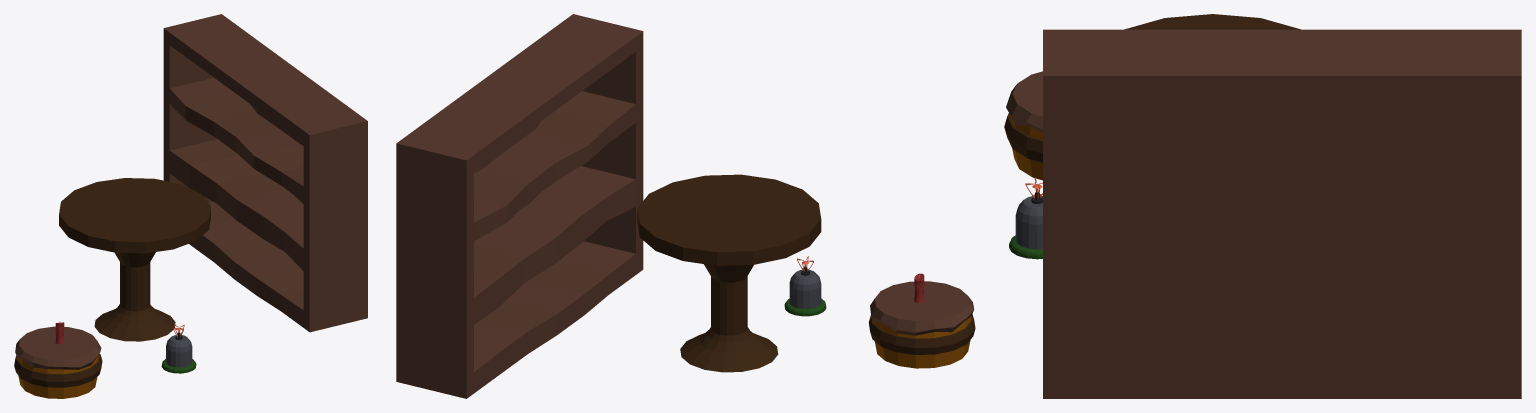
File: Expansion4.fbx
The picture shows the model from 3 angles, left to right: view 1: azimuth 30°, elevation 25°; view 2: azimuth 150°, elevation 25°; view 3: azimuth 270°, elevation 25°; orthographic projection. The views are drawn at different scales.
Parts seen in each view (by area): view 1: Cube.004, Cylinder.005, Cylinder.007, Cylinder.006; view 2: Cube.004, Cylinder.005, Cylinder.007, Cylinder.006; view 3: Cube.004, Cylinder.007, Cylinder.005, Cylinder.006.
Boxes of the visible parts, x1=… form: Cube.004: x1=163, y1=14, x2=367, y2=332; Cylinder.005: x1=59, y1=178, x2=210, y2=341; Cylinder.007: x1=14, y1=321, x2=102, y2=398; Cylinder.006: x1=161, y1=324, x2=196, y2=373; Cube.004: x1=396, y1=14, x2=643, y2=398; Cylinder.005: x1=637, y1=174, x2=821, y2=372; Cylinder.007: x1=868, y1=273, x2=975, y2=368; Cylinder.006: x1=784, y1=256, x2=826, y2=316; Cube.004: x1=1043, y1=29, x2=1521, y2=398; Cylinder.007: x1=1004, y1=71, x2=1042, y2=180; Cylinder.005: x1=1124, y1=14, x2=1300, y2=29; Cylinder.006: x1=1009, y1=177, x2=1042, y2=259.
Bounding box in the file's own units: 313 × 175 × 254.
